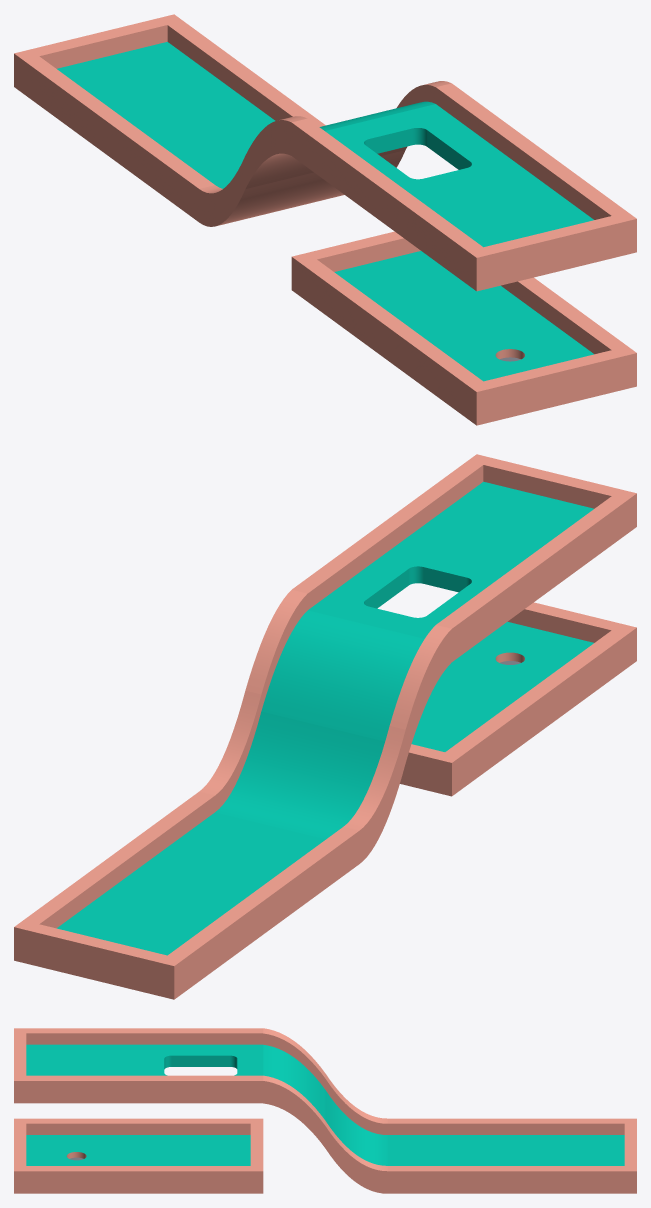
Rendered from Hole2Unmerged.fbx.
3 views of the same model, one above another, from view 1: azimuth 30°, elevation 25°; view 2: azimuth 150°, elevation 25°; view 3: azimuth 270°, elevation 25° (orthographic). The views are drawn at different scales.
Parts seen in each view (by area): view 1: Hole2Unmerged.001, Hole2Unmerged.002; view 2: Hole2Unmerged.002, Hole2Unmerged.001; view 3: Hole2Unmerged.001, Hole2Unmerged.002.
Part boxes in pixels (x1=…): Hole2Unmerged.001: x1=14, y1=14, x2=636, y2=425; Hole2Unmerged.002: x1=57, y1=42, x2=593, y2=381; Hole2Unmerged.002: x1=57, y1=481, x2=593, y2=955; Hole2Unmerged.001: x1=14, y1=454, x2=636, y2=999; Hole2Unmerged.001: x1=14, y1=1028, x2=636, y2=1193; Hole2Unmerged.002: x1=26, y1=1044, x2=624, y2=1165.
Bounding box in the file's own units: 100 × 100 × 500.
